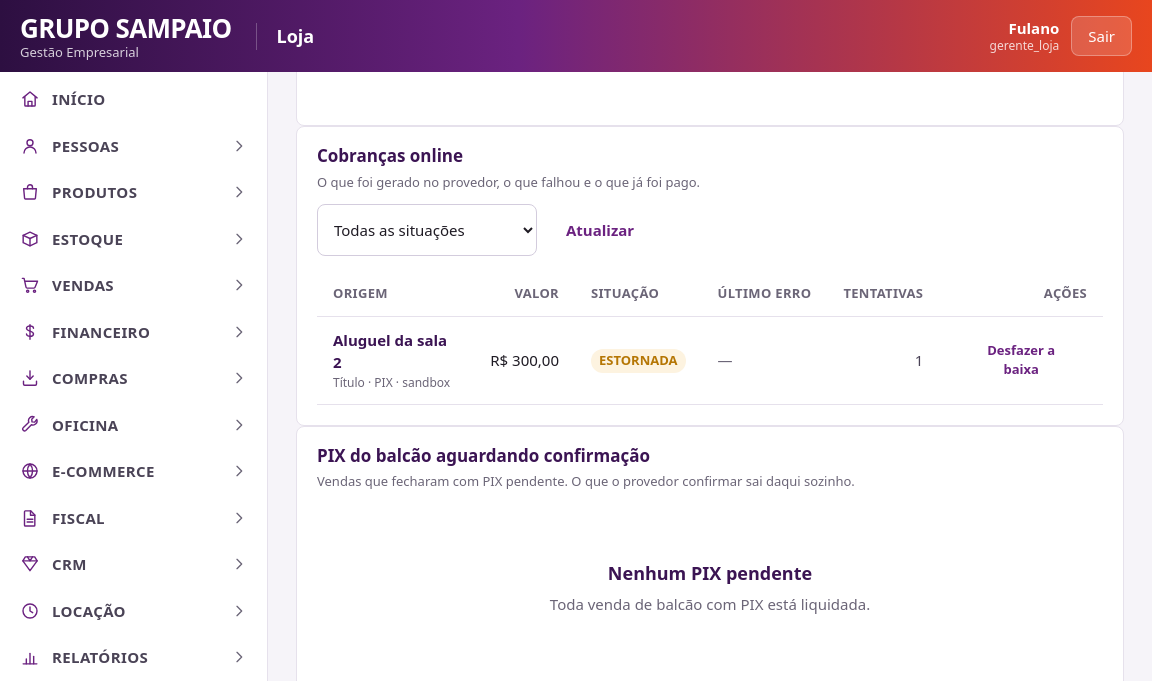
Scenario: GAP-PRD-092 — estornar a cobrança paga do título pela tela › estornada no portal com a baixa de pé: o gesto é "Desfazer a baixa"
The image size is (1152, 681).
(page scrolled)
Step 1. Click the button "Desfazer a baixa" → x=1021, y=360, box [955,334,1087,387]
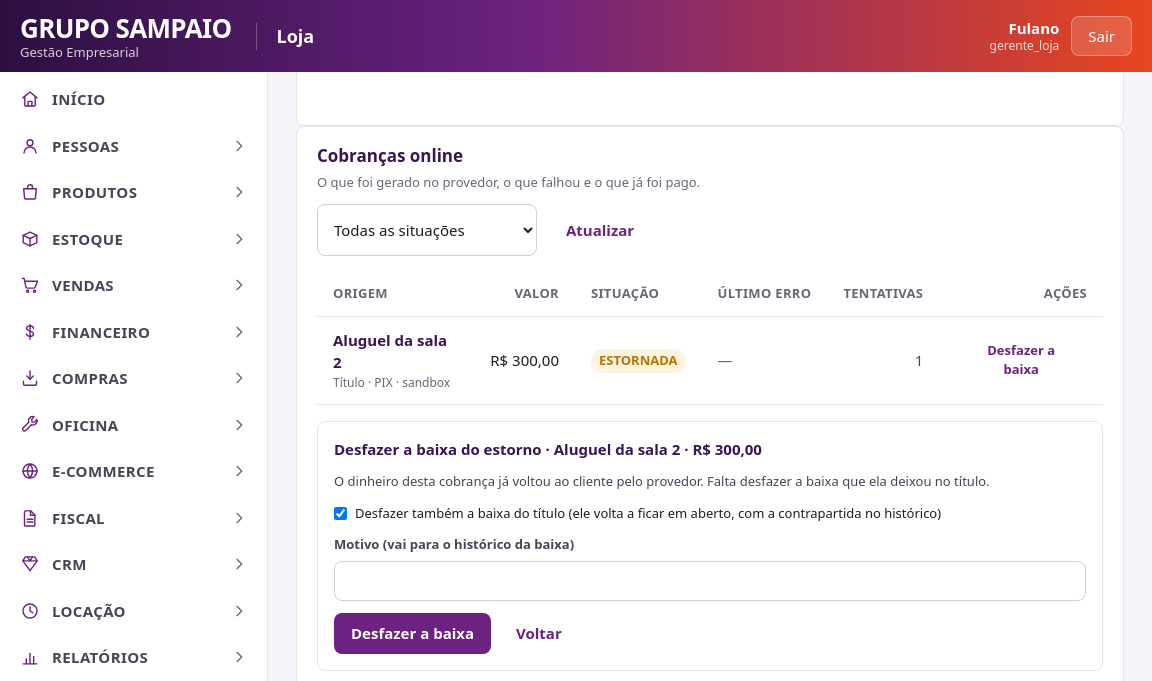
Check: the text "já voltou ao cliente" is shown, box [334,472,990,490]
